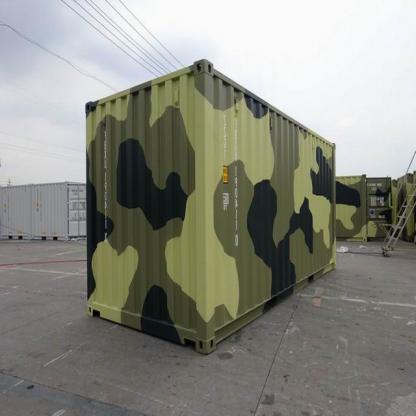Damage: (98, 102, 110, 130), (320, 148, 332, 166)
